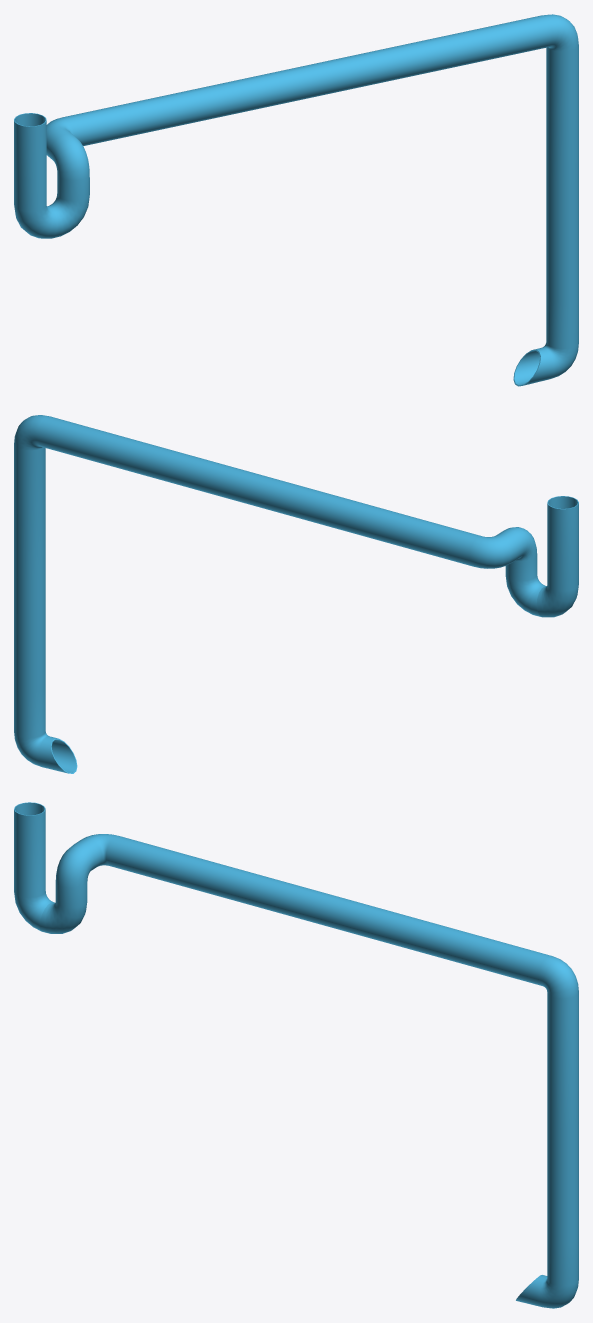
Rendered from Env_Sink_Pipe.fbx.
3 renders of one model, top to bottom at view 1: azimuth 30°, elevation 25°; view 2: azimuth 150°, elevation 25°; view 3: azimuth 330°, elevation 25°, orthographic. The views are drawn at different scales.
Parts seen in each view (by area): view 1: Basin_Pipe_Full; view 2: Basin_Pipe_Full; view 3: Basin_Pipe_Full.
Part boxes in pixels (box(x1,y1,x2,y2)): Basin_Pipe_Full: box(14, 14, 578, 386); Basin_Pipe_Full: box(14, 415, 578, 773); Basin_Pipe_Full: box(14, 802, 578, 1308).
Size of the model in its own units: 106 by 69.66 by 13.43.
